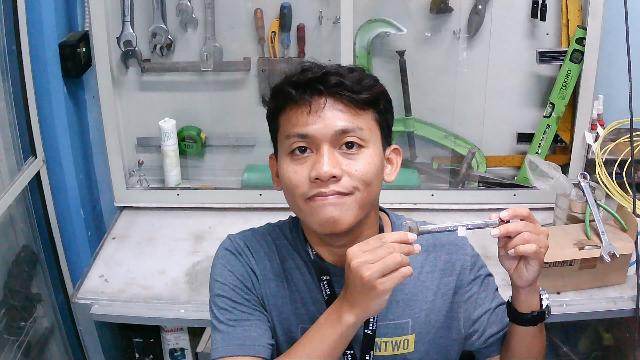kunci_pass_13: (395, 212, 523, 247)
